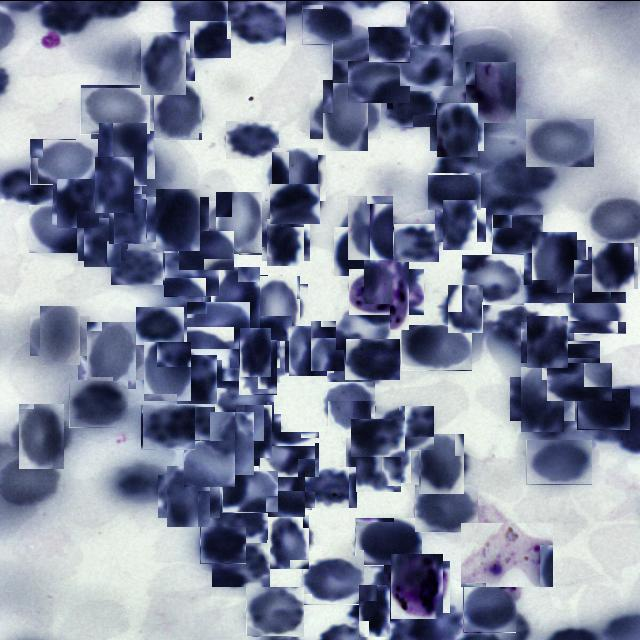difficult: (388, 556, 447, 616)
red blood cell: (80, 84, 150, 134), (316, 85, 374, 144), (82, 325, 140, 383), (401, 324, 472, 370), (526, 118, 594, 166), (247, 279, 304, 336), (207, 270, 264, 327), (355, 517, 422, 565), (96, 126, 152, 182), (30, 138, 98, 184), (462, 254, 524, 304), (136, 34, 191, 90), (414, 484, 478, 532), (186, 301, 250, 349), (302, 555, 364, 604), (334, 226, 396, 275), (351, 432, 406, 487), (29, 204, 92, 252), (342, 200, 398, 254), (516, 370, 570, 426), (526, 439, 592, 484), (14, 408, 69, 462), (212, 196, 267, 250), (268, 150, 322, 204), (150, 82, 204, 136), (255, 458, 309, 512), (528, 234, 582, 288), (205, 416, 259, 470), (151, 192, 205, 246), (246, 586, 304, 636), (415, 437, 468, 490), (140, 344, 194, 396), (69, 380, 128, 427), (259, 431, 319, 477), (163, 469, 215, 522), (375, 405, 434, 450), (228, 0, 286, 45), (564, 291, 626, 333), (348, 60, 410, 102), (546, 362, 612, 401), (212, 542, 270, 586), (495, 154, 556, 195), (35, 310, 85, 360), (336, 303, 390, 349), (214, 380, 274, 421), (211, 496, 268, 539), (325, 378, 374, 428), (463, 586, 516, 632), (142, 404, 196, 449), (164, 252, 219, 296), (332, 39, 386, 83), (541, 340, 600, 380), (222, 470, 278, 512), (184, 440, 235, 486), (264, 516, 312, 564), (286, 326, 334, 374), (90, 160, 138, 208), (433, 104, 481, 152), (573, 259, 625, 303), (303, 466, 357, 508), (521, 260, 575, 302), (234, 344, 282, 391), (178, 230, 234, 270), (346, 338, 400, 379), (524, 318, 571, 365), (400, 44, 453, 85), (577, 388, 630, 429), (174, 356, 220, 402), (55, 180, 101, 226), (590, 244, 636, 290), (351, 418, 405, 456), (428, 172, 482, 210), (232, 408, 276, 454), (226, 120, 279, 158), (302, 4, 352, 44), (270, 183, 320, 223), (492, 214, 543, 253), (111, 248, 166, 284), (328, 361, 378, 400), (81, 220, 125, 264), (105, 196, 149, 240), (408, 2, 452, 46), (386, 90, 436, 127), (264, 220, 308, 262), (353, 588, 395, 632), (164, 406, 218, 440), (136, 306, 184, 344), (439, 203, 482, 245), (444, 287, 486, 329), (306, 324, 348, 366), (394, 223, 439, 261), (200, 526, 246, 563), (236, 331, 276, 372), (190, 20, 232, 58), (368, 26, 410, 62)
trophozoite: (468, 514, 546, 592), (356, 261, 417, 321), (464, 64, 520, 120)
